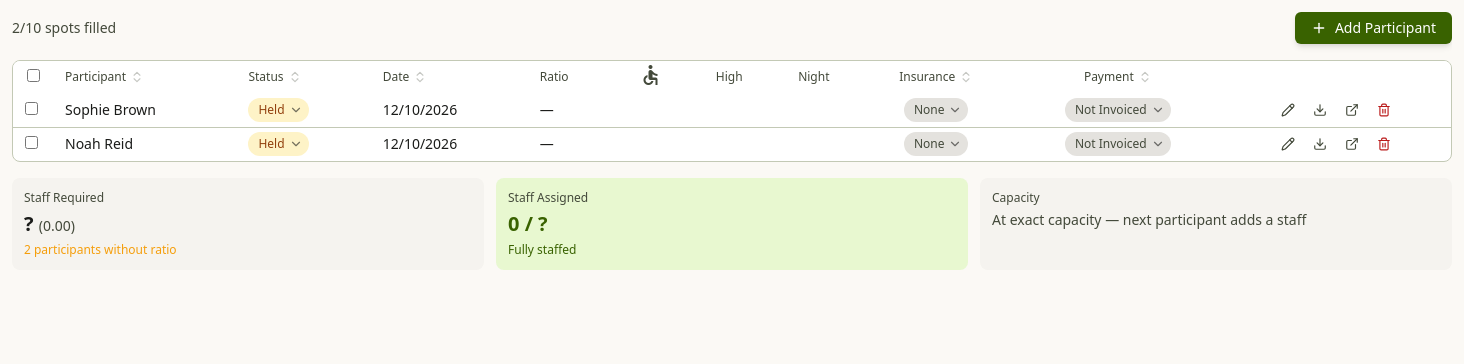
Test case: BookingsTab — overlapping and bulk changes, through the real mutation › shows a refusal on one row even when another row changed before it was answered
Click the button "None" in the row of "Sophie Brown" at (936, 110), box [904,98,968,122]
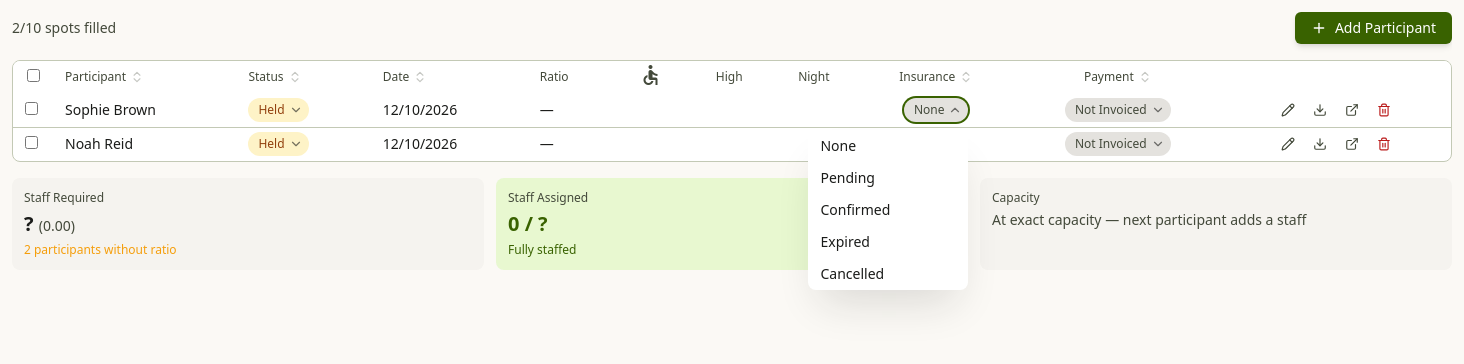
Click the option "Pending" at (848, 177), box [820,168,875,187]
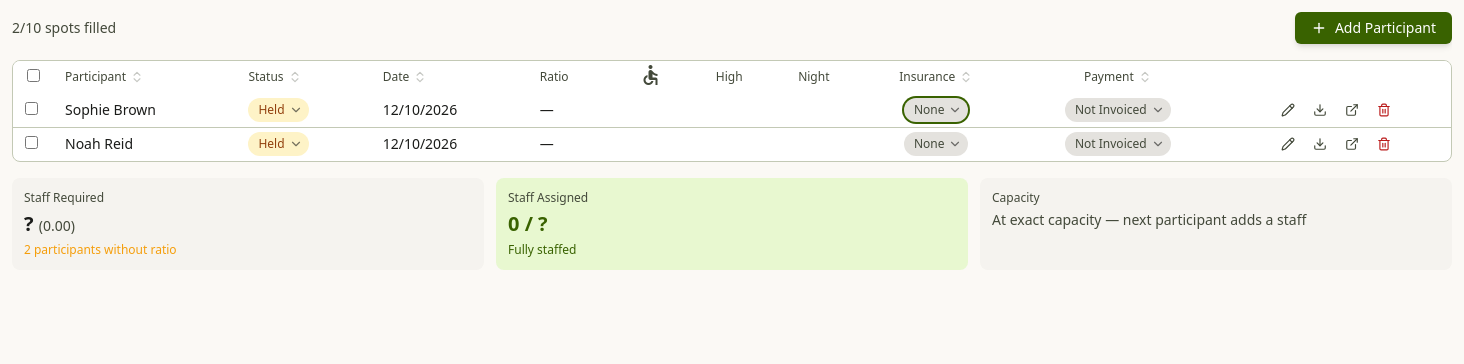
Click the button "Not Invoiced" in the row of "Noah Reid" at (1118, 144), box [1065,132,1171,156]
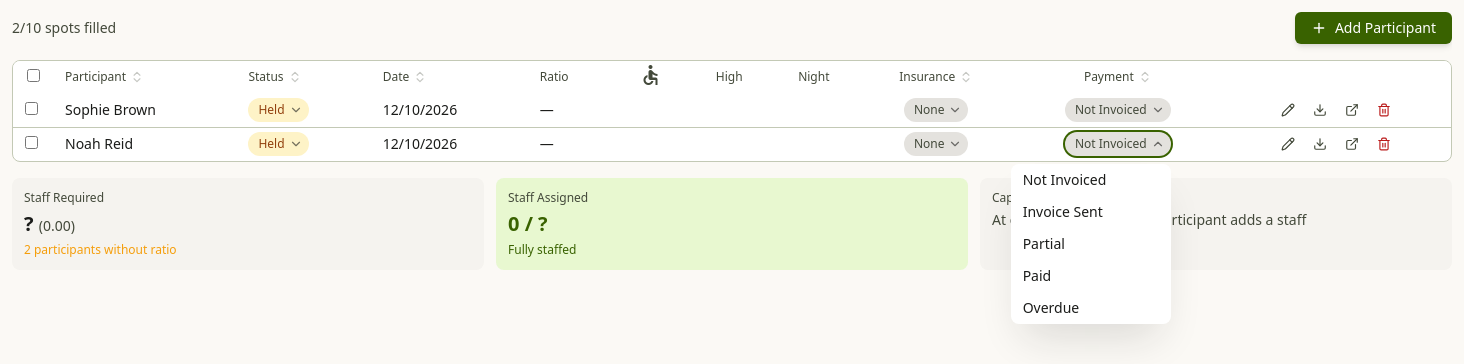
Click the option "Paid" at (1037, 276), box [1023,266,1051,285]
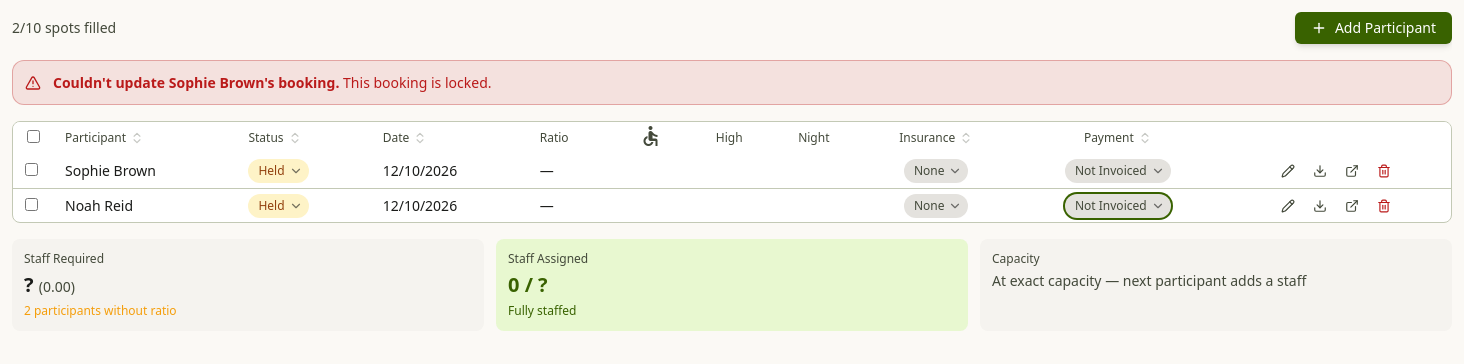
Result: the text "Couldn't update Sophie Brown's booking." is shown at [53,73,339,92]
Result: the text "This booking is locked." is shown at [343,73,492,92]
